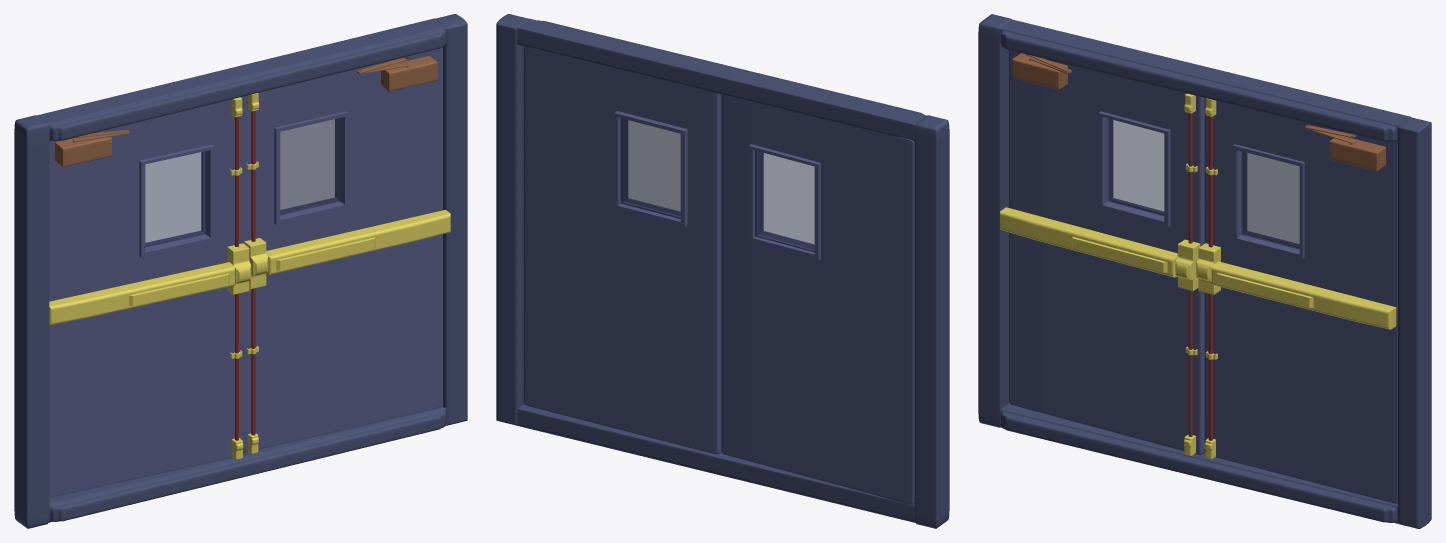
The model's file is Double_Doors.fbx.
The picture shows the model from 3 angles, left to right: view 1: azimuth 30°, elevation 25°; view 2: azimuth 150°, elevation 25°; view 3: azimuth 330°, elevation 25°; orthographic projection.
Parts seen in each view (by area): view 1: R_Door, L_Doort, Marco2; view 2: R_Door, L_Doort, Marco2; view 3: R_Door, L_Doort, Marco2.
Part boxes in pixels (x1,y1,x2,y2): R_Door: (244, 47, 450, 453); L_Doort: (49, 96, 251, 497); Marco2: (14, 14, 467, 528); R_Door: (523, 46, 721, 454); L_Doort: (721, 95, 914, 504); Marco2: (496, 14, 949, 528); R_Door: (1196, 98, 1397, 503); L_Doort: (1000, 50, 1204, 455); Marco2: (978, 14, 1431, 528).
Bounding box in the file's own units: 6.28 × 5.44 × 0.5231.
